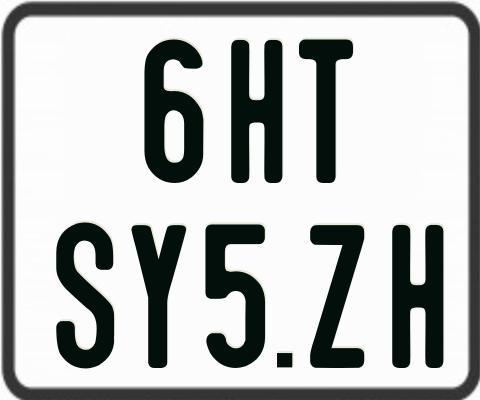5: (204, 224, 266, 369)
6: (141, 37, 205, 185)
H: (231, 40, 288, 188), (391, 223, 447, 370)
S: (55, 221, 116, 373)
T: (296, 37, 354, 186)
Y: (130, 223, 189, 366)
Z: (307, 222, 365, 367)
